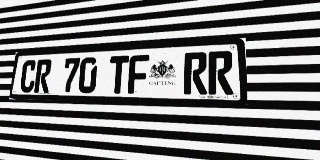0: (78, 57, 98, 93)
7: (61, 58, 80, 93)
C: (19, 60, 37, 93)
F: (128, 55, 149, 94)
R: (208, 51, 233, 95), (184, 52, 207, 95), (34, 59, 52, 93)
T: (108, 56, 129, 94)
